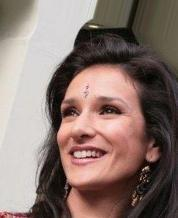face: (61, 97, 122, 169)
